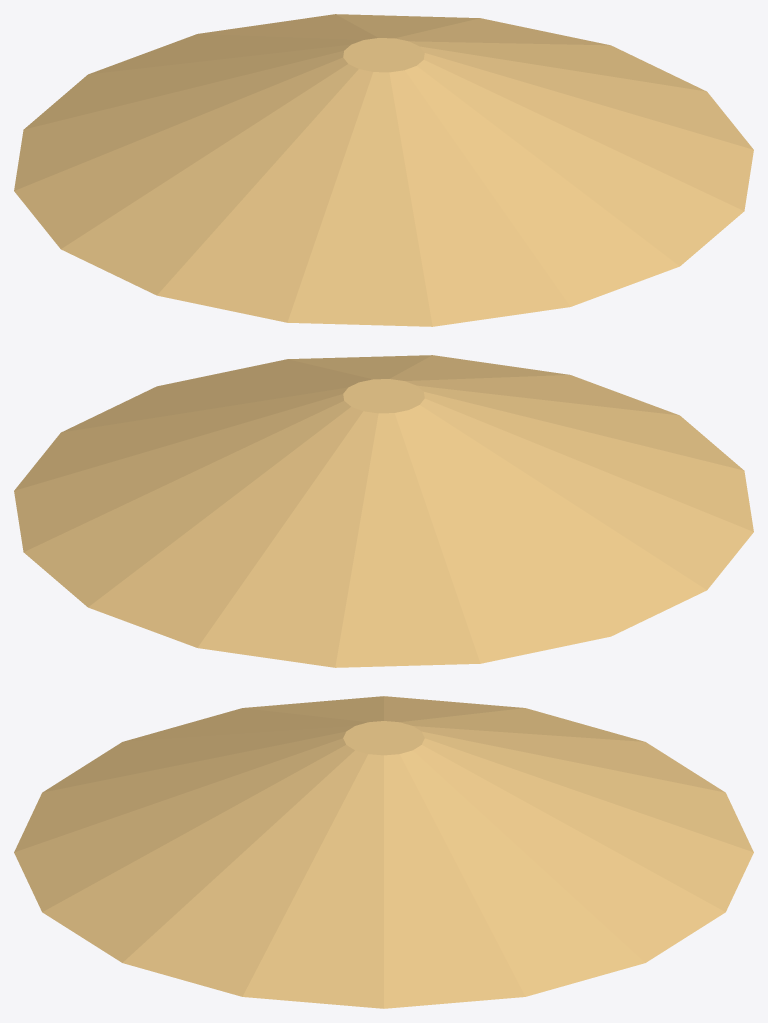
File: Canopy_Roof.obj
The picture shows the model from 3 angles, top to bottom: view 1: azimuth 30°, elevation 25°; view 2: azimuth 150°, elevation 25°; view 3: azimuth 270°, elevation 25°; orthographic projection.
Parts seen in each view (by area): view 1: Canopy_Roof; view 2: Canopy_Roof; view 3: Canopy_Roof.
Part boxes in pixels (<box>): Canopy_Roof: <box>14,14,753,326</box>; Canopy_Roof: <box>14,355,753,667</box>; Canopy_Roof: <box>14,696,753,1008</box>.
Bounding box in the file's own units: 6.16 × 1.05 × 6.16.
